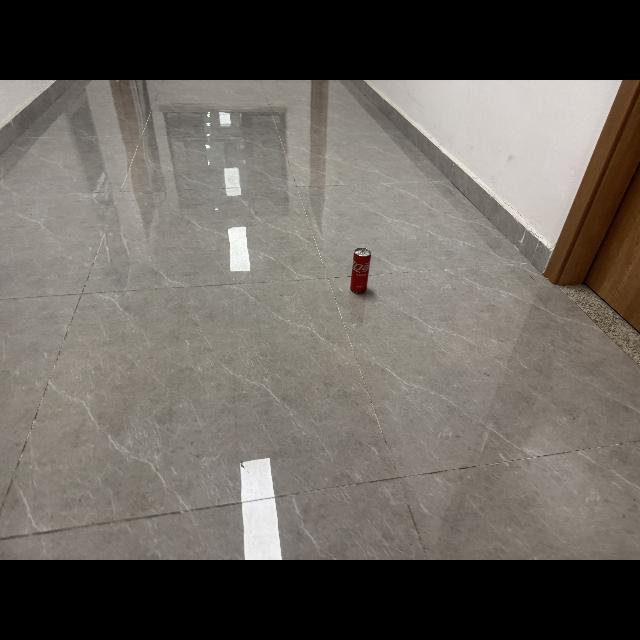Cola: (348, 246, 374, 296)
